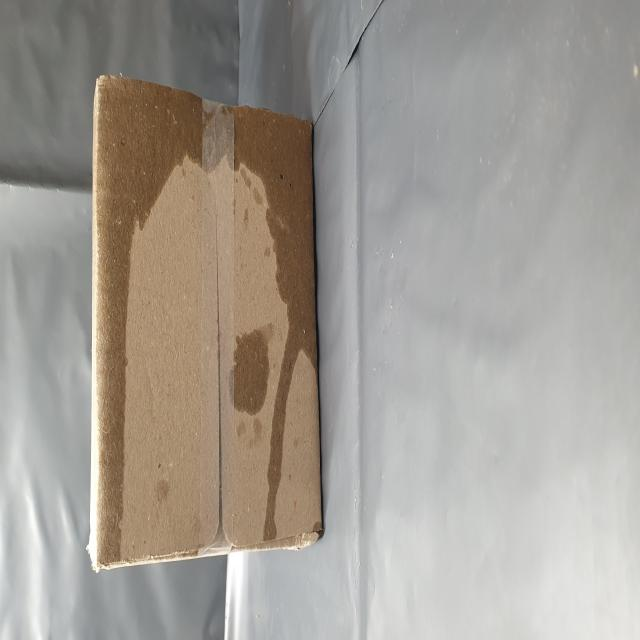wet: (45, 155, 320, 594)
